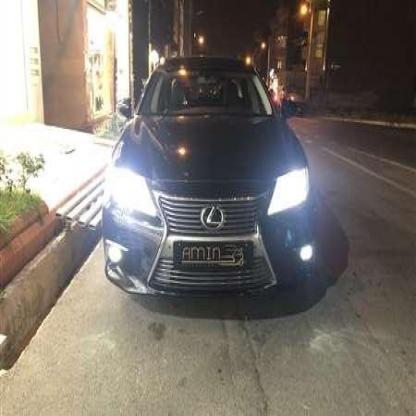Car: (100, 55, 322, 324)
